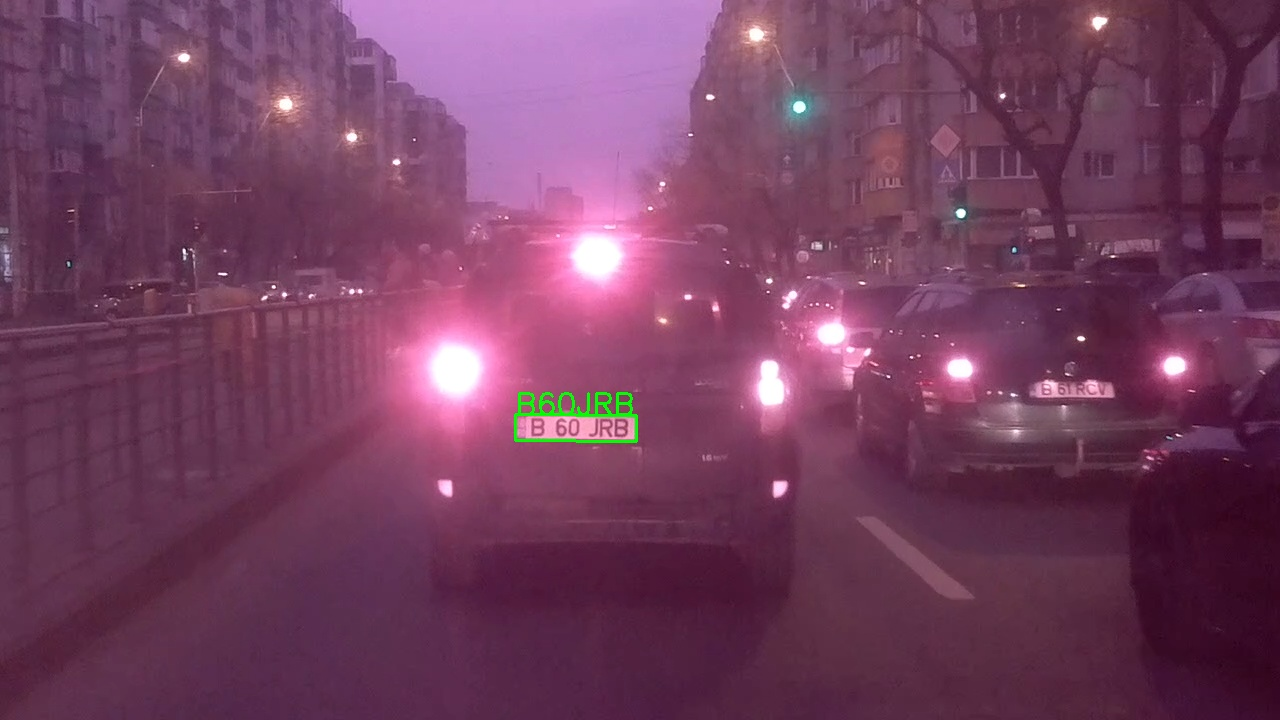license-plate: (514, 413, 638, 442)
